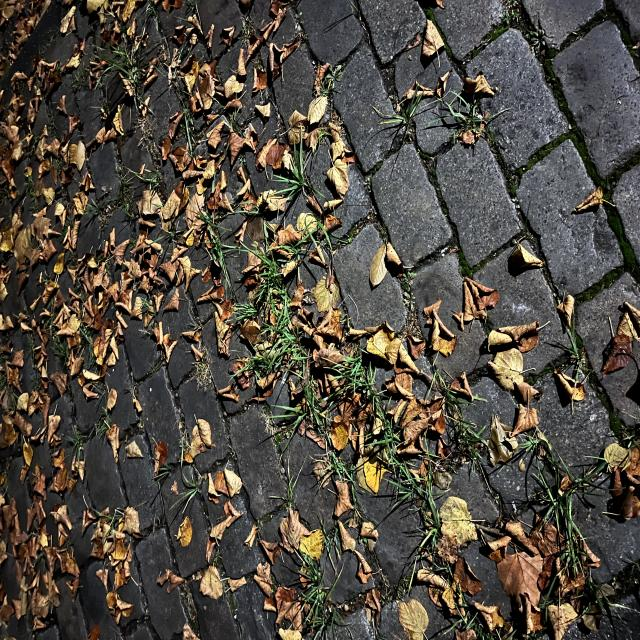leaves: (0, 0, 265, 639), (607, 286, 639, 393), (413, 15, 444, 64)
pavement: (293, 0, 639, 359)
weed: (197, 214, 451, 529)
